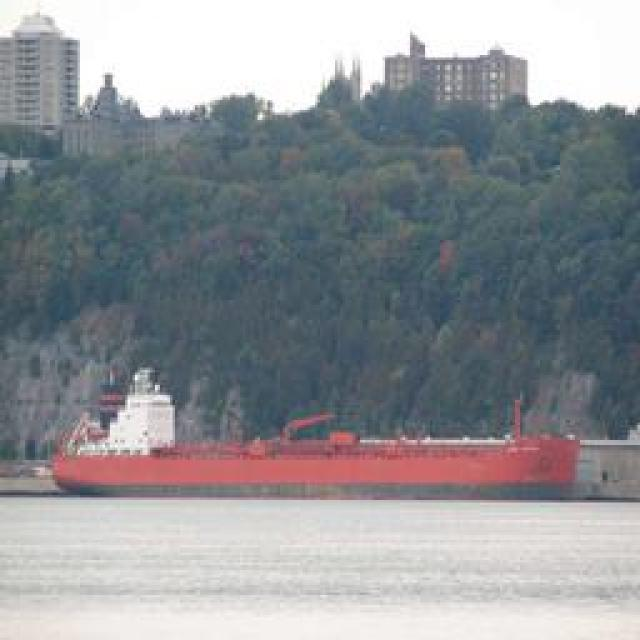ship2: (53, 369, 581, 504)
